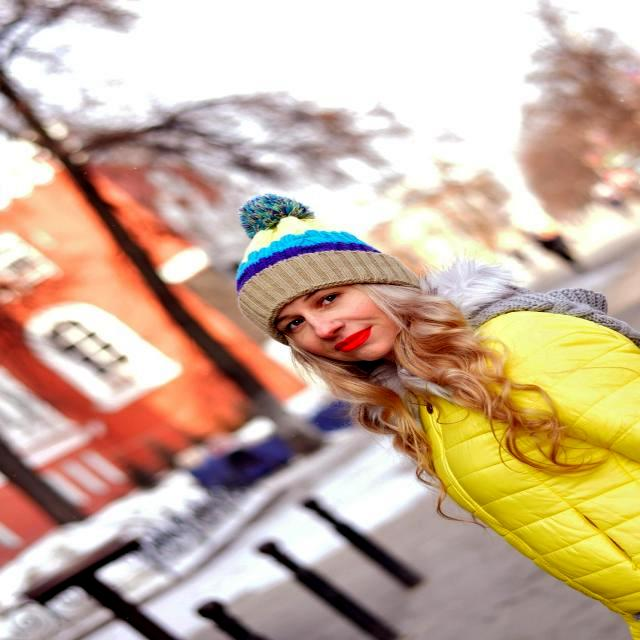no_hard_hat: (236, 194, 416, 324)
person: (278, 286, 639, 640)
